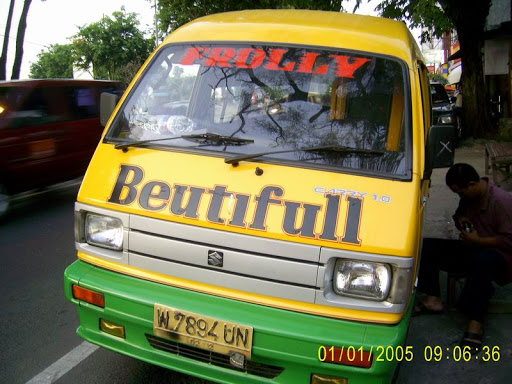plate: (152, 304, 251, 357)
